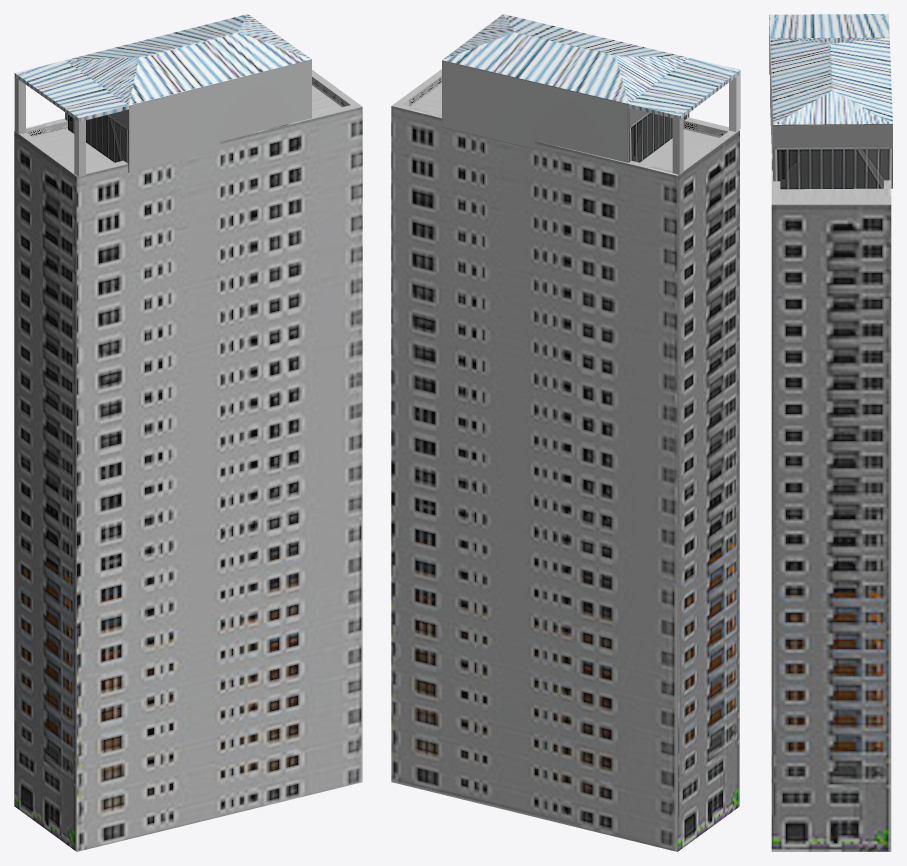
The model's file is edificiotrasero1izquierdo.fbx.
3 views of the same model, side by side, from view 1: azimuth 30°, elevation 25°; view 2: azimuth 150°, elevation 25°; view 3: azimuth 270°, elevation 25° (orthographic). The views are drawn at different scales.
Parts seen in each view (by area): view 1: Cube; view 2: Cube; view 3: Cube.
Part boxes in pixels (<box>): Cube: <box>14,14,362,851</box>; Cube: <box>391,14,740,851</box>; Cube: <box>769,14,892,851</box>.
Bounding box in the file's own units: 4003 × 9992 × 1563.
Materials: 2 (2 with a texture image).
